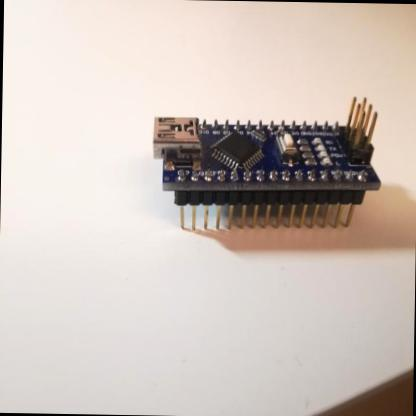Arduino_Nano: (146, 90, 387, 243)
